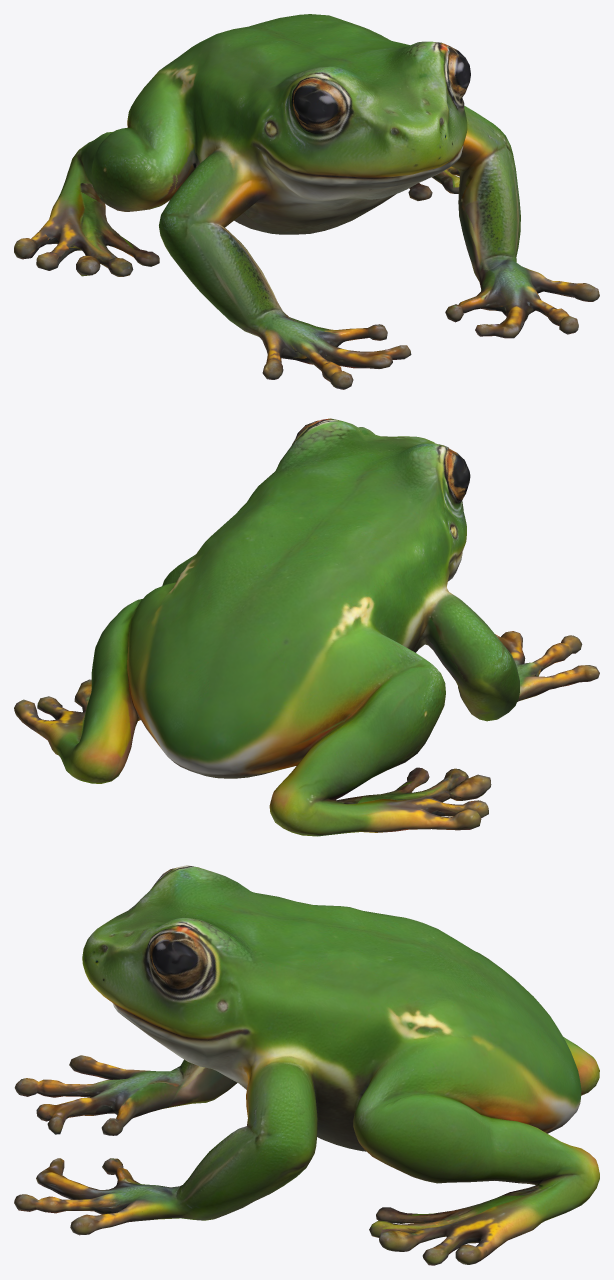
File: rana.fbx
The picture shows the model from 3 angles, top to bottom: view 1: azimuth 30°, elevation 25°; view 2: azimuth 150°, elevation 25°; view 3: azimuth 270°, elevation 25°; orthographic projection. The views are drawn at different scales.
Parts seen in each view (by area): view 1: Mesh_0; view 2: Mesh_0; view 3: Mesh_0.
Part boxes in pixels (x1=…): Mesh_0: x1=14, y1=14, x2=599, y2=389; Mesh_0: x1=14, y1=418, x2=599, y2=836; Mesh_0: x1=14, y1=865, x2=599, y2=1265.
Size of the model in its own units: 160 by 82.3 by 166.
1 material, 1 textured.
